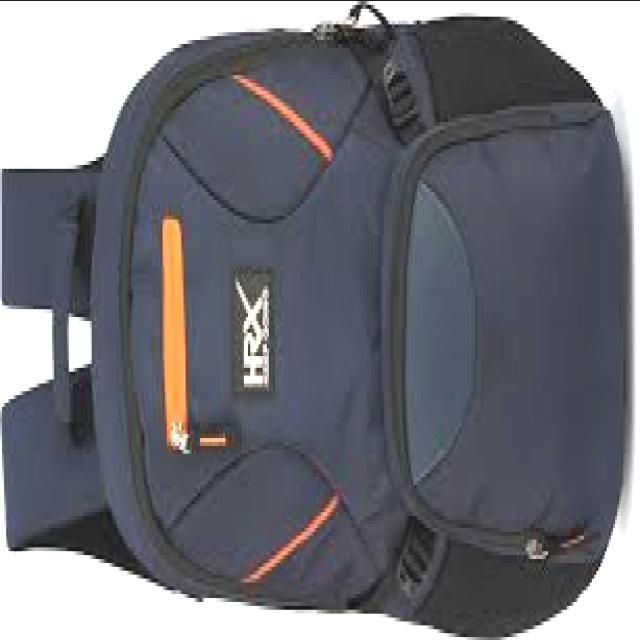backpack: (1, 5, 626, 640)
